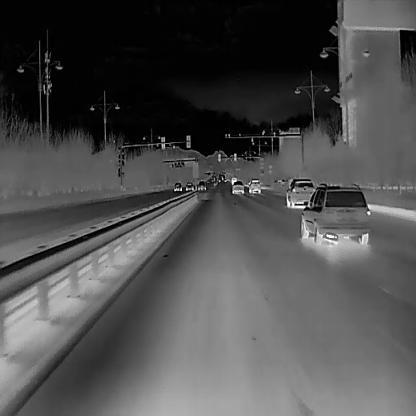car: (300, 180, 371, 248), (286, 177, 315, 206), (247, 177, 260, 193), (231, 179, 243, 194), (197, 179, 207, 191), (186, 180, 193, 191), (173, 183, 181, 190), (229, 176, 236, 184)
